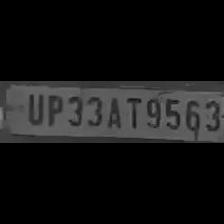3: (63, 92, 83, 128), (202, 97, 222, 132), (84, 93, 104, 127)
5: (162, 96, 182, 130)
6: (182, 96, 200, 132)
9: (142, 95, 162, 129)
A: (103, 94, 123, 128)
P: (43, 92, 63, 128)
T: (122, 94, 142, 130)
U: (22, 91, 44, 125)
